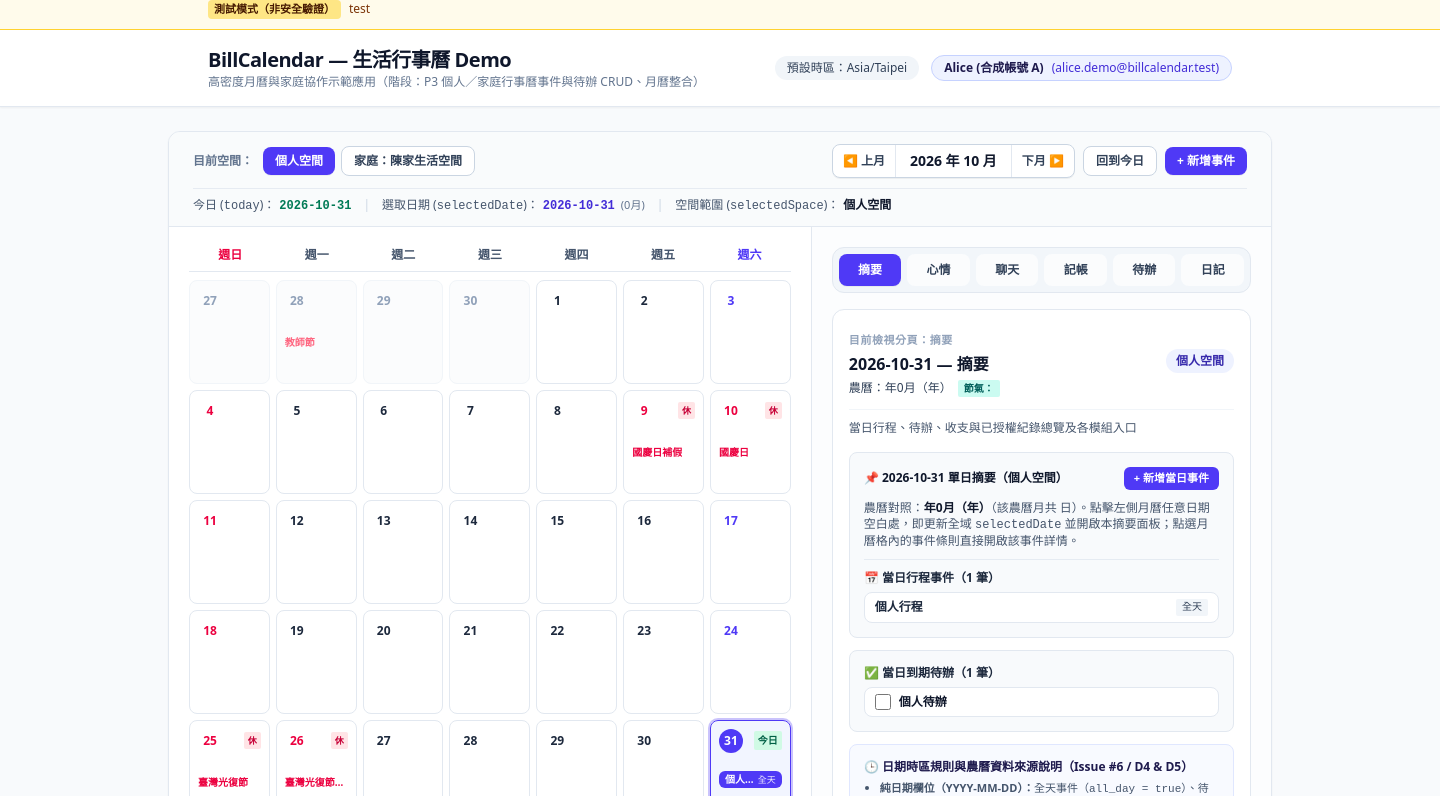
Issue #29 <App /> async identity / space switching & out-of-order responses › leaving the selected family aborts its in-flight loads and falls back to personal data
Click the button with test id "space-switch-family-fam_01": click(408, 161) [341,146,475,176]
(page scrolled)
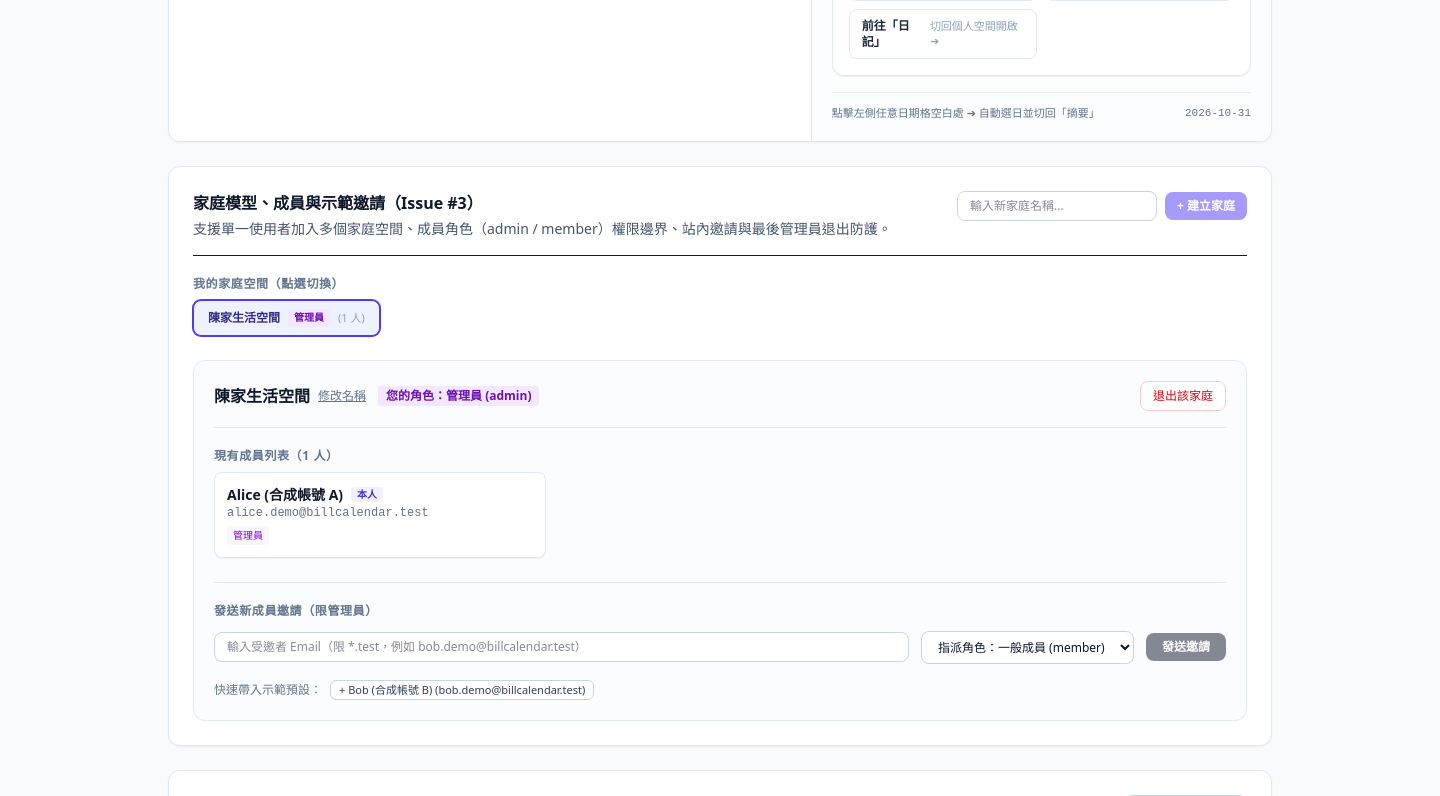
Click the button "退出該家庭": click(1183, 396) [1140,381,1226,411]
(page scrolled)
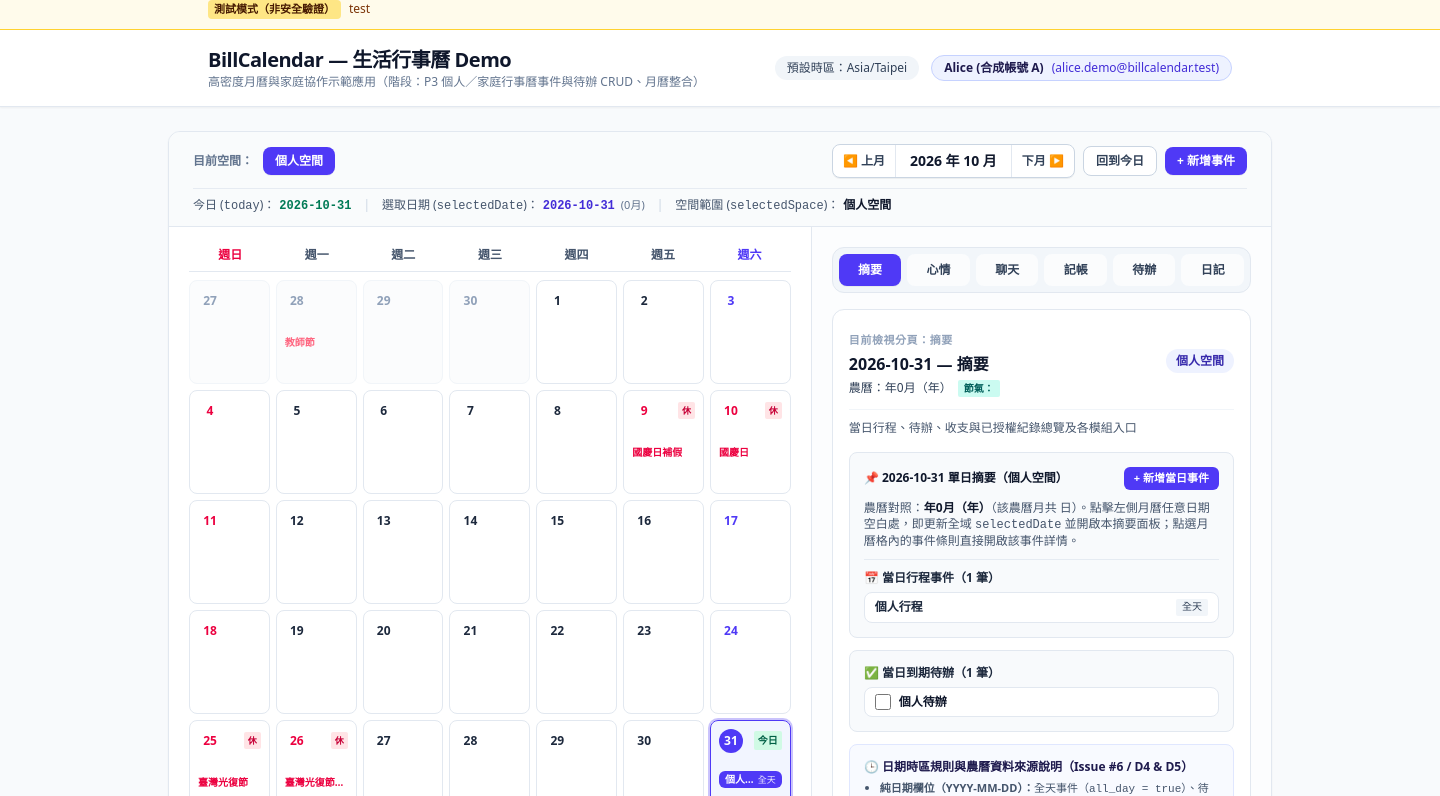
Expected: the text with test id "status-selected-space" reads "個人空間", [843,196,891,213]
